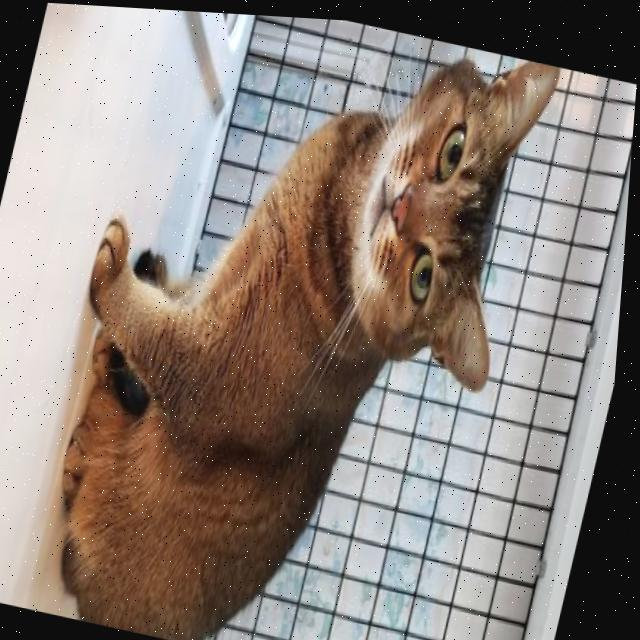Abyssinian: (16, 2, 569, 640)
